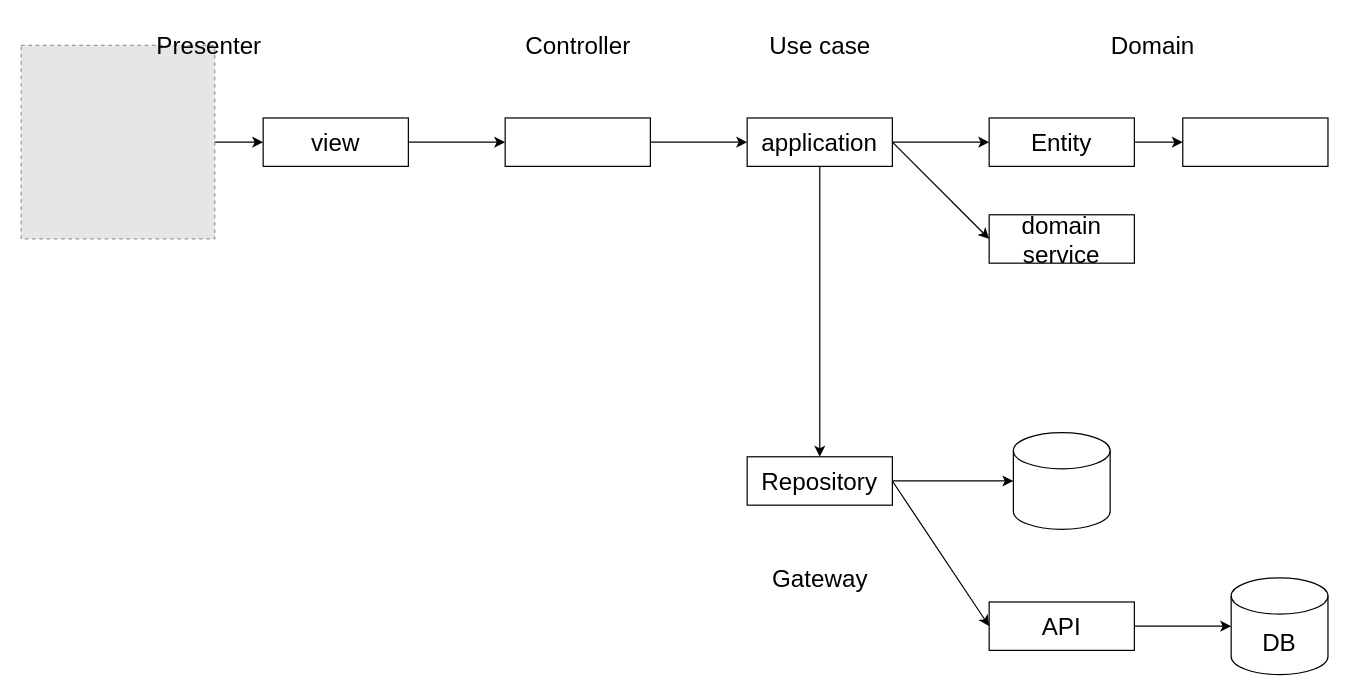
Image size: 1349x696. Some labels were removed from this diagram. Grey dashed boxes stand in for pictures. Each missing label, with the centre of its shape:
"BLoC" goes at [577,141].
"JSON" goes at [1061,480].
"value object" goes at [1255,141].
